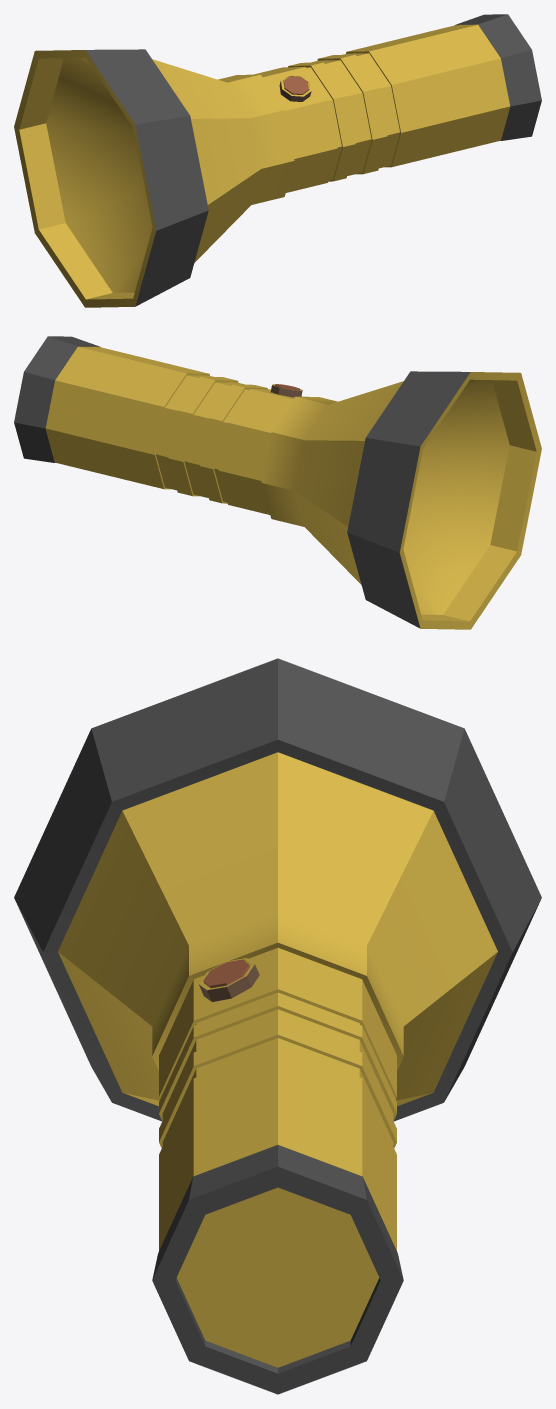
The model's file is flashlightupdated_fbx.fbx.
The picture shows the model from 3 angles, top to bottom: view 1: azimuth 30°, elevation 25°; view 2: azimuth 150°, elevation 25°; view 3: azimuth 270°, elevation 25°; orthographic projection. The views are drawn at different scales.
Visible parts, largest first — view 1: light1; view 2: light1; view 3: light1.
Boxes of the visible parts, bbox=[...] form: light1: bbox=[14, 14, 541, 307]; light1: bbox=[14, 336, 541, 629]; light1: bbox=[14, 658, 541, 1394].
Size of the model in its own units: 2.4 by 1.4 by 1.4.
